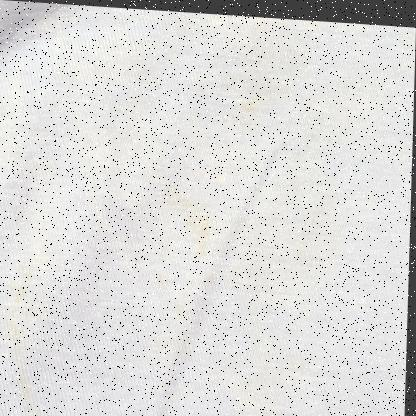spot: (227, 63, 283, 135), (172, 189, 230, 254), (12, 359, 52, 416), (162, 274, 210, 317), (3, 265, 46, 312), (5, 307, 32, 356), (202, 156, 232, 184)
